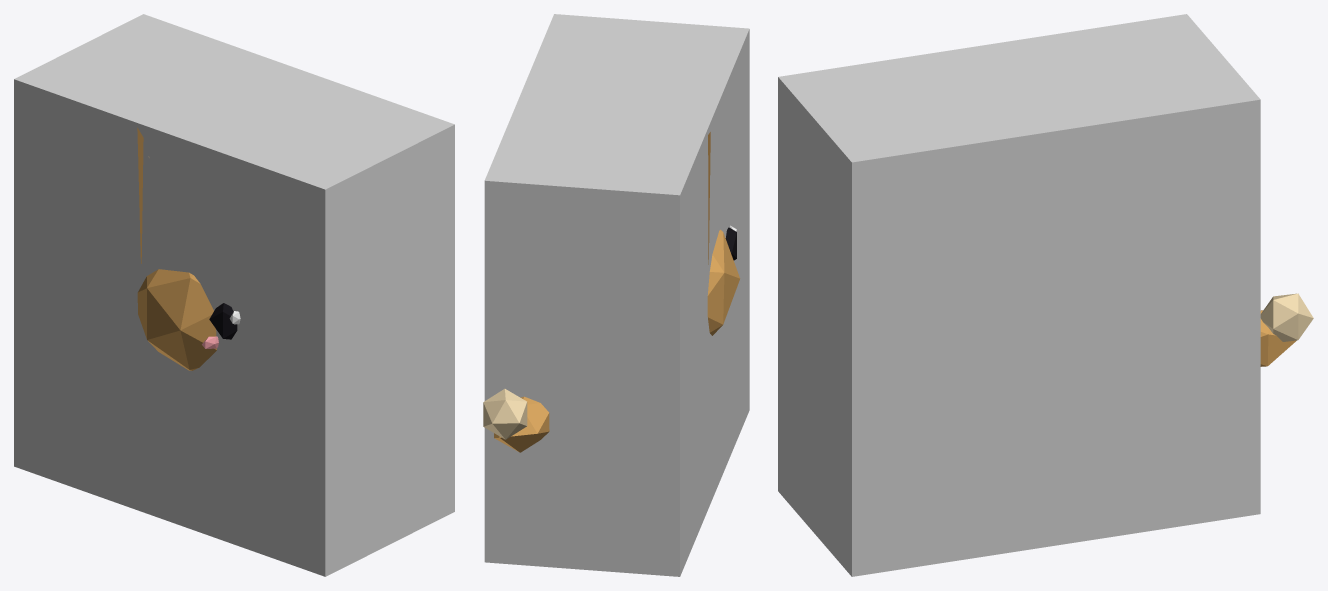
File: desert_pet1.fbx
3 views of the same model, side by side, from view 1: azimuth 30°, elevation 25°; view 2: azimuth 150°, elevation 25°; view 3: azimuth 270°, elevation 25° (orthographic). The views are drawn at different scales.
Parts seen in each view (by area): view 1: Root__0.00_0.47_0.08__0.45_0.95_0.90, Head__Body__0.00_0.36_-0.07; view 2: Root__0.00_0.47_0.08__0.45_0.95_0.90, Tail__Body__0.00_0.29_0.29, Head__Body__0.00_0.36_-0.07; view 3: Root__0.00_0.47_0.08__0.45_0.95_0.90, Tail__Body__0.00_0.29_0.29.
Boxes of the visible parts, <box> form: Root__0.00_0.47_0.08__0.45_0.95_0.90: <box>14,14,454,576</box>; Head__Body__0.00_0.36_-0.07: <box>137,127,240,370</box>; Root__0.00_0.47_0.08__0.45_0.95_0.90: <box>484,14,749,576</box>; Tail__Body__0.00_0.29_0.29: <box>483,388,549,452</box>; Head__Body__0.00_0.36_-0.07: <box>707,132,740,335</box>; Root__0.00_0.47_0.08__0.45_0.95_0.90: <box>778,14,1260,576</box>; Tail__Body__0.00_0.29_0.29: <box>1260,293,1313,366</box>.
Bounding box in the file's own units: 20.44 × 26.78 × 31.16.
1 material, 1 textured.
